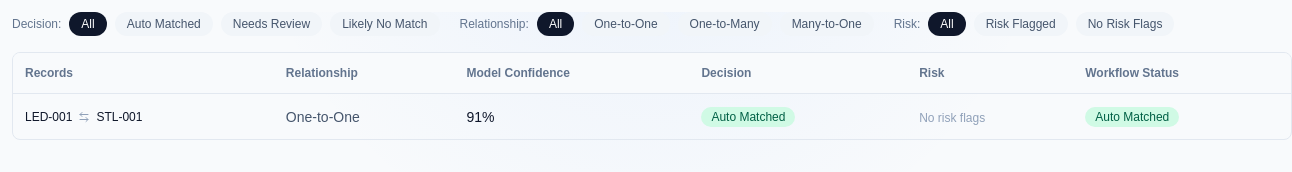
DecisionTable — empty and filter states › shows a distinct no-results state when filters exclude everything, not a blank table
Click the button "Needs Review": (272,24) [221,12,322,36]
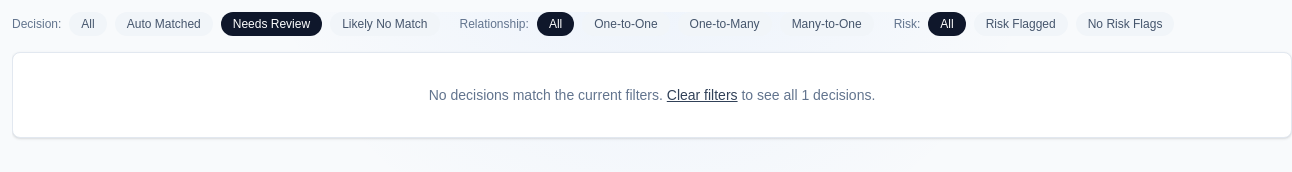
Check: the text "No decisions match the current filters" is shown, box [429,87,663,103]
